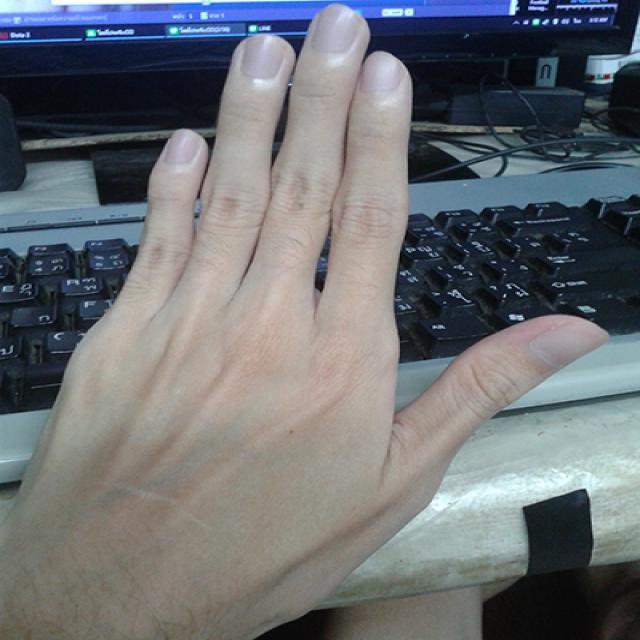no-gloves: (18, 0, 611, 640)
